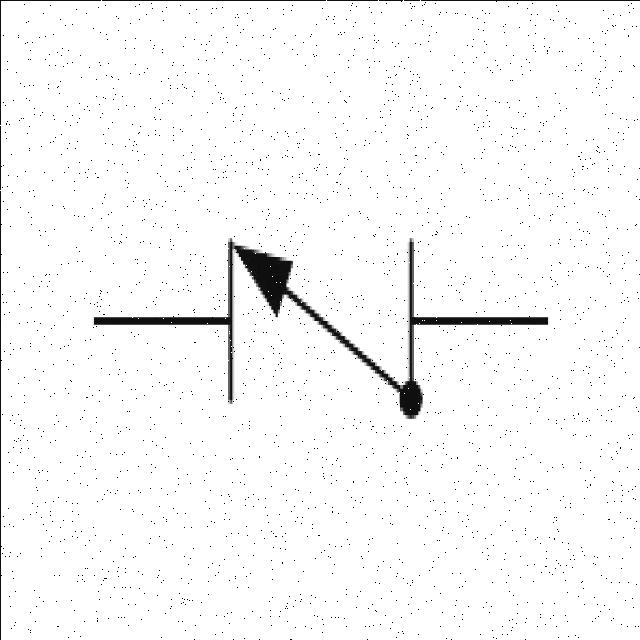Check Valve: (219, 118, 464, 460)
